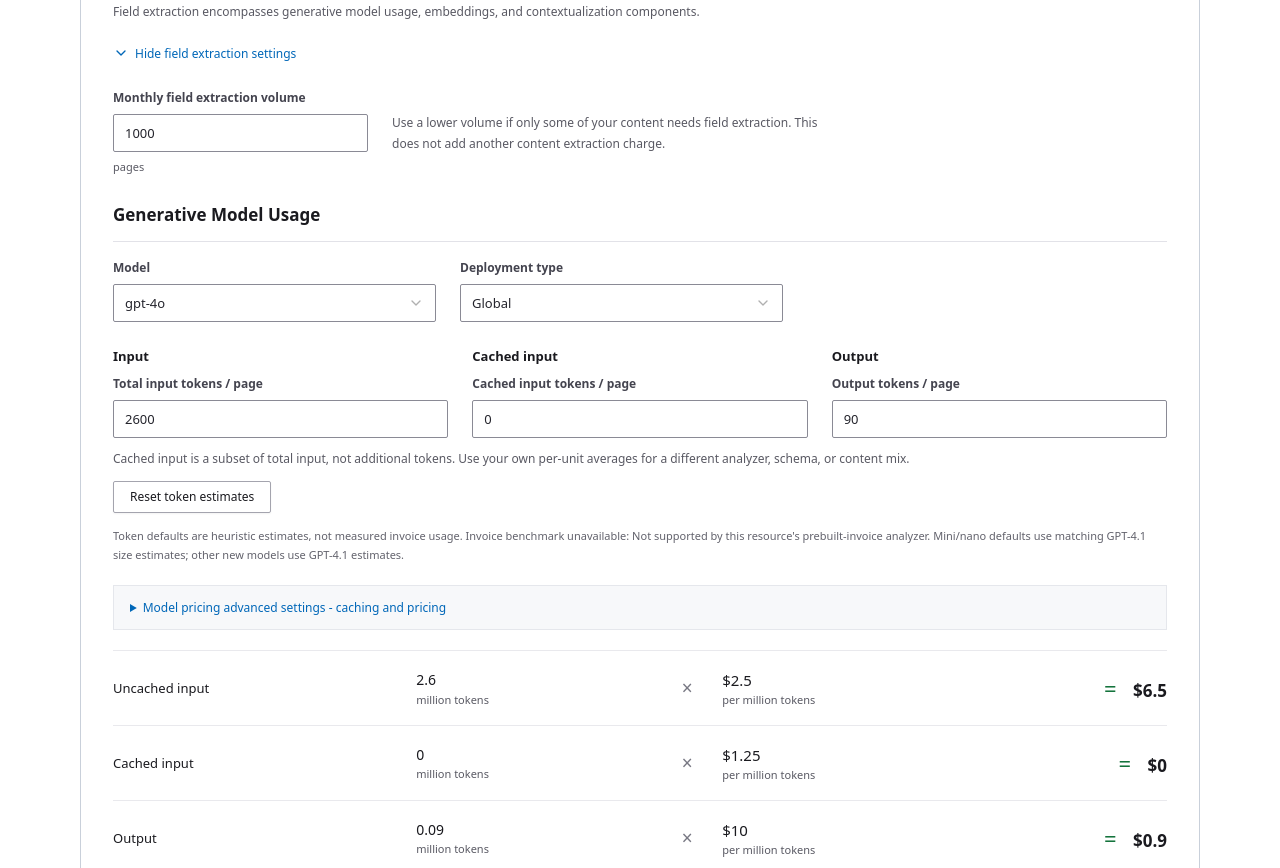
Test: Pricing calculator UI › displays invalid cached token counts instead of a total
(page scrolled)
Replace the text in the number field labelled "Cached input tokens / page" with "3000" at (640, 418), box [472,400,808,438]
(page scrolled)
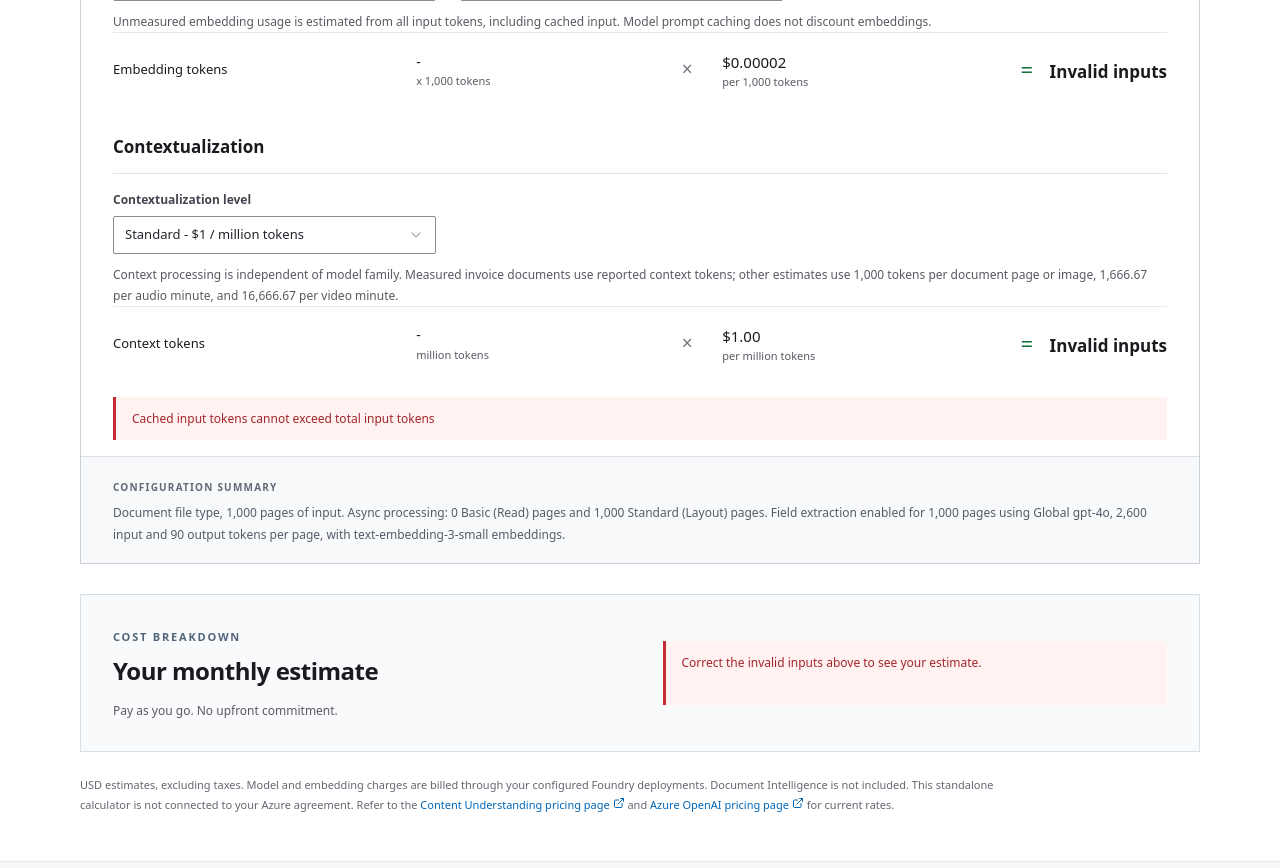
Result: the message shows "cannot exceed" at [132,410,435,427]
